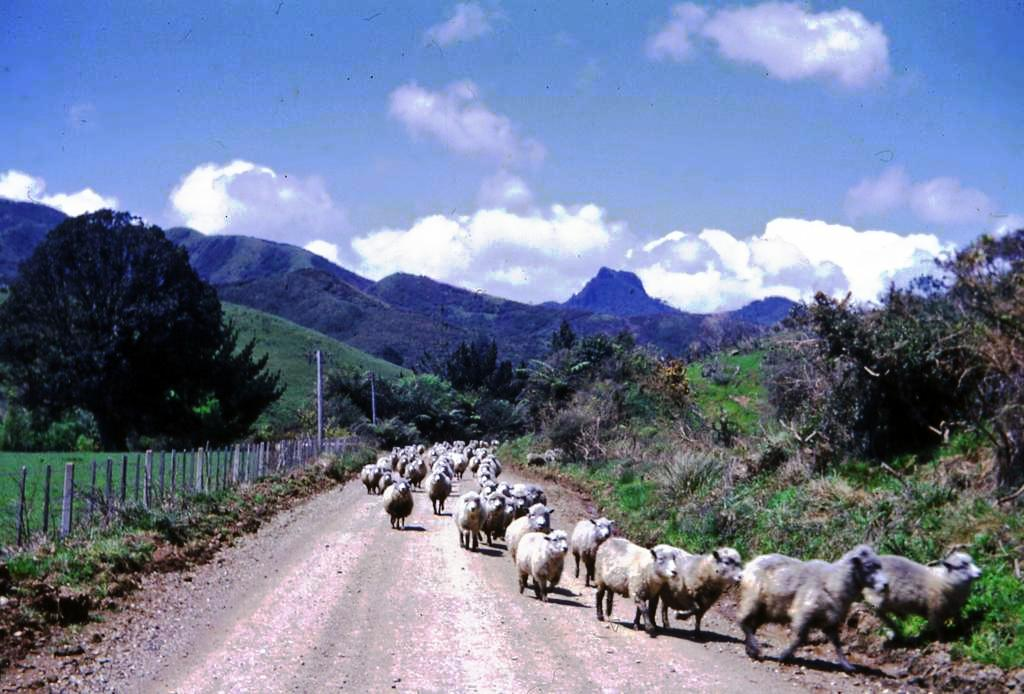Sheep: (737, 544, 888, 666), (867, 547, 991, 640), (586, 532, 686, 644), (648, 544, 752, 633), (508, 524, 572, 604), (568, 515, 619, 584), (504, 502, 556, 566), (381, 476, 416, 533), (456, 490, 487, 551), (427, 469, 453, 518), (360, 463, 374, 496), (414, 458, 428, 487), (397, 455, 411, 478), (454, 457, 467, 479), (469, 455, 480, 478)
